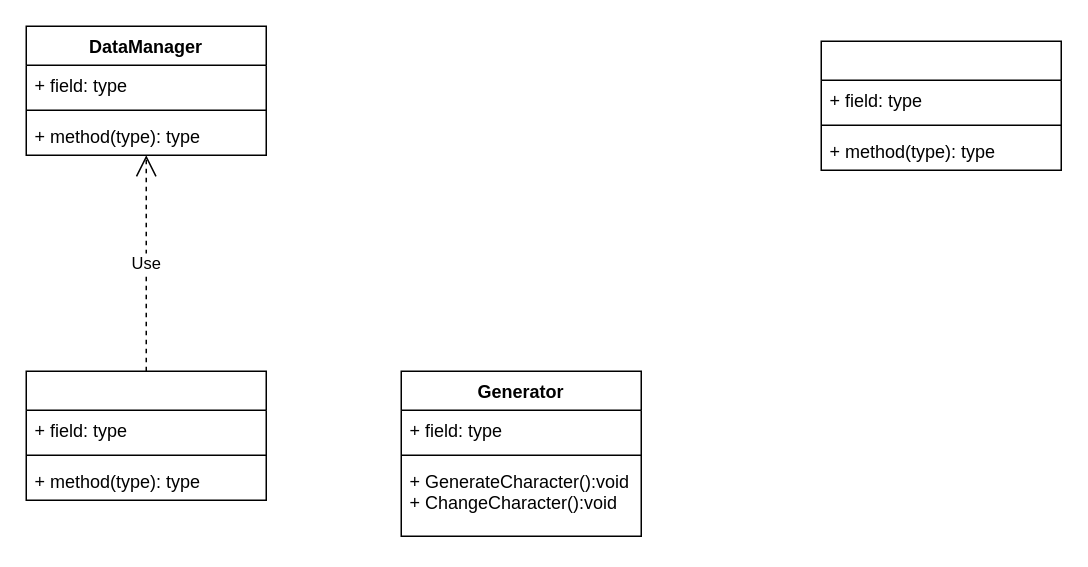
Some shapes in this 1088 by 567 pixel diagram are drawn without their labels. Each missing label, with the box of its shape:
GameManger: (820, 40, 1061, 170)
UI: (25, 370, 266, 500)
